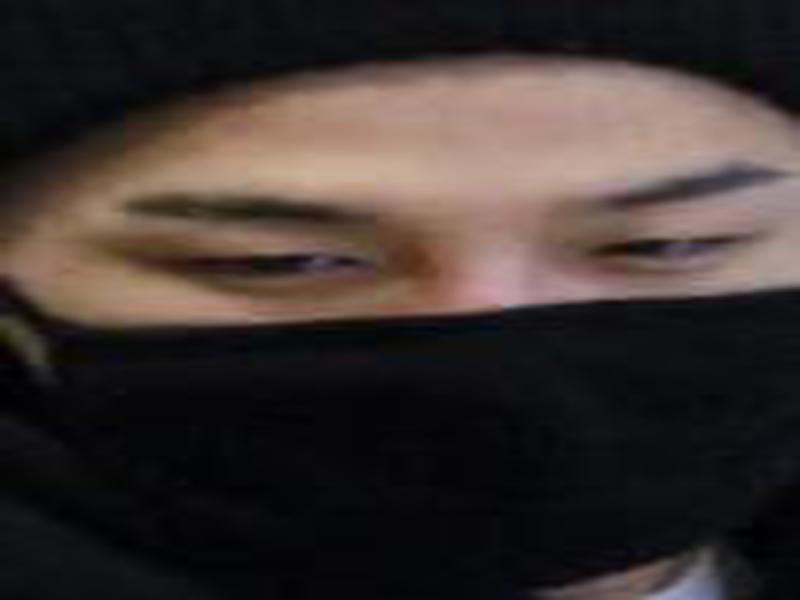with_mask: (1, 61, 798, 600)
